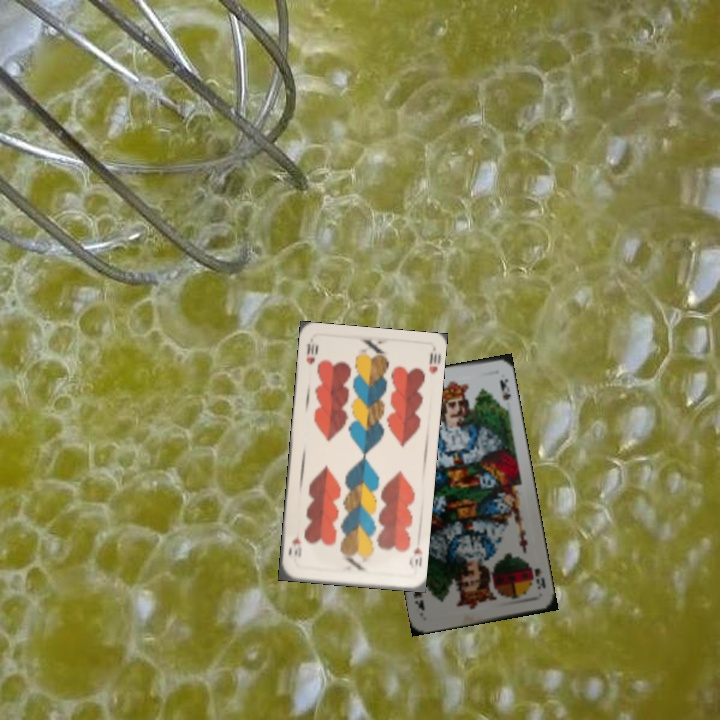H10: (405, 535, 424, 571), (302, 340, 321, 367)
SK: (525, 557, 548, 592)
